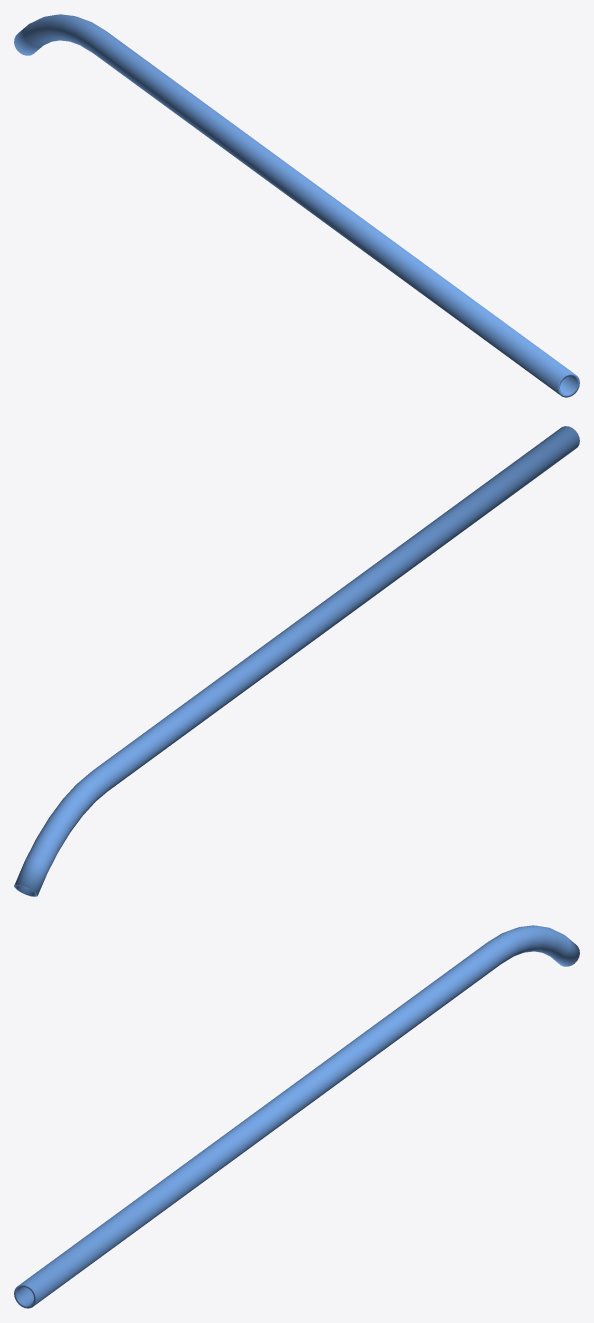
Rendered from pipes_supply__water_heater__9f73fc6e.glb.
3 views of the same model, one above another, from view 1: azimuth 30°, elevation 25°; view 2: azimuth 150°, elevation 25°; view 3: azimuth 330°, elevation 25° (orthographic).
Visible parts, largest first — view 1: pipe_supply_cold_riser_flo_n__pex; view 2: pipe_supply_cold_riser_flo_n__pex; view 3: pipe_supply_cold_riser_flo_n__pex.
Boxes of the visible parts, left/top/right/bottom form: pipe_supply_cold_riser_flo_n__pex: left=14, top=14, right=579, bottom=397; pipe_supply_cold_riser_flo_n__pex: left=14, top=426, right=579, bottom=896; pipe_supply_cold_riser_flo_n__pex: left=14, top=925, right=579, bottom=1308.
Size of the model in its own units: 0.0222 by 0.0717 by 0.9343.
